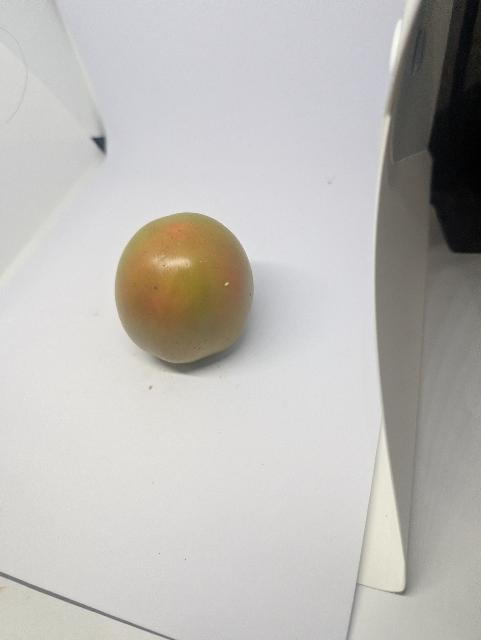breaker: (110, 209, 260, 372)
